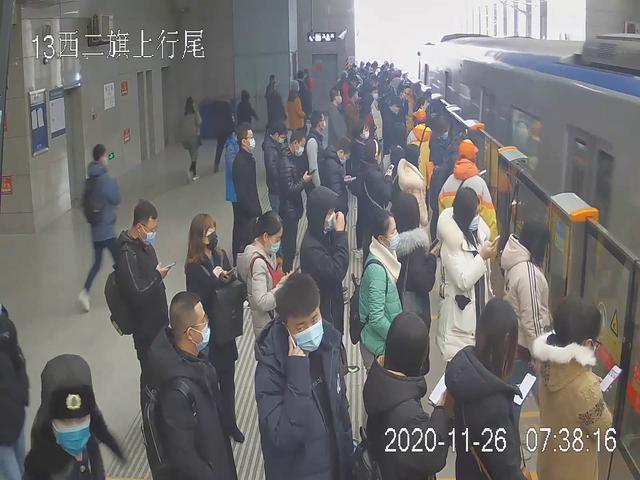person: (256, 272, 357, 480), (139, 290, 241, 480), (447, 294, 533, 480), (362, 311, 454, 480), (532, 295, 614, 480), (183, 214, 248, 443), (433, 186, 495, 408), (111, 198, 171, 414), (354, 206, 403, 423), (298, 185, 354, 374), (500, 218, 552, 394), (77, 144, 126, 311), (235, 211, 291, 347), (275, 126, 310, 273), (228, 123, 263, 265)
